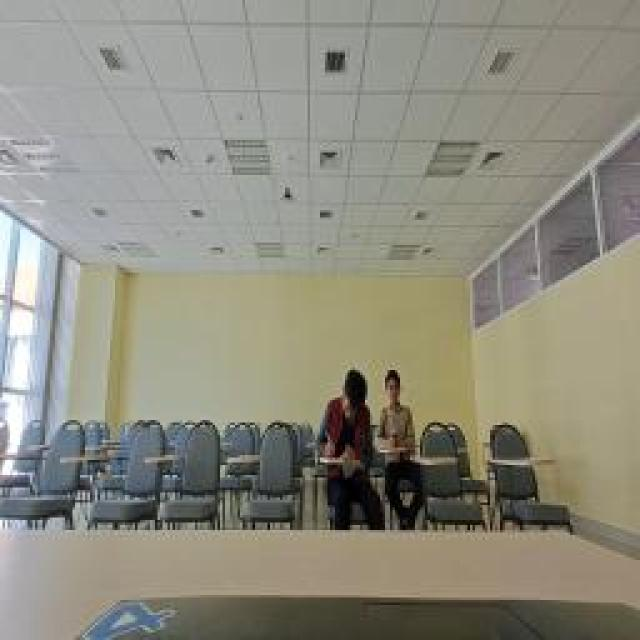study: (318, 370, 372, 462), (375, 370, 417, 450)
